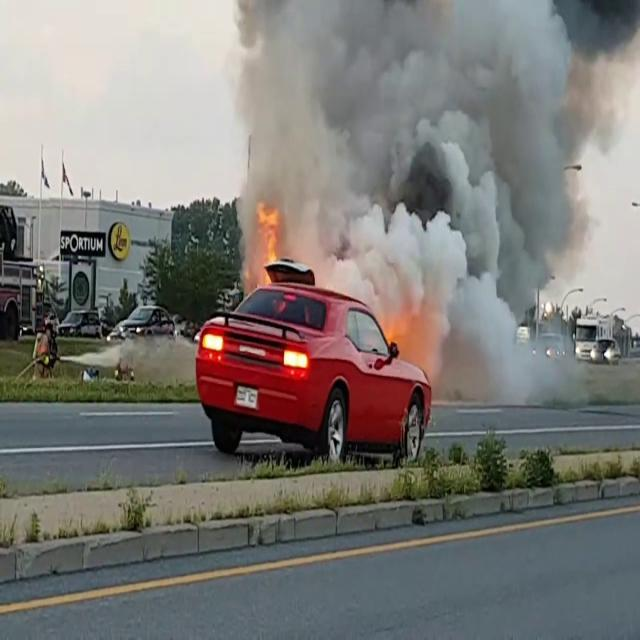Fire: (246, 201, 288, 291)
Smoke: (215, 1, 637, 289)
